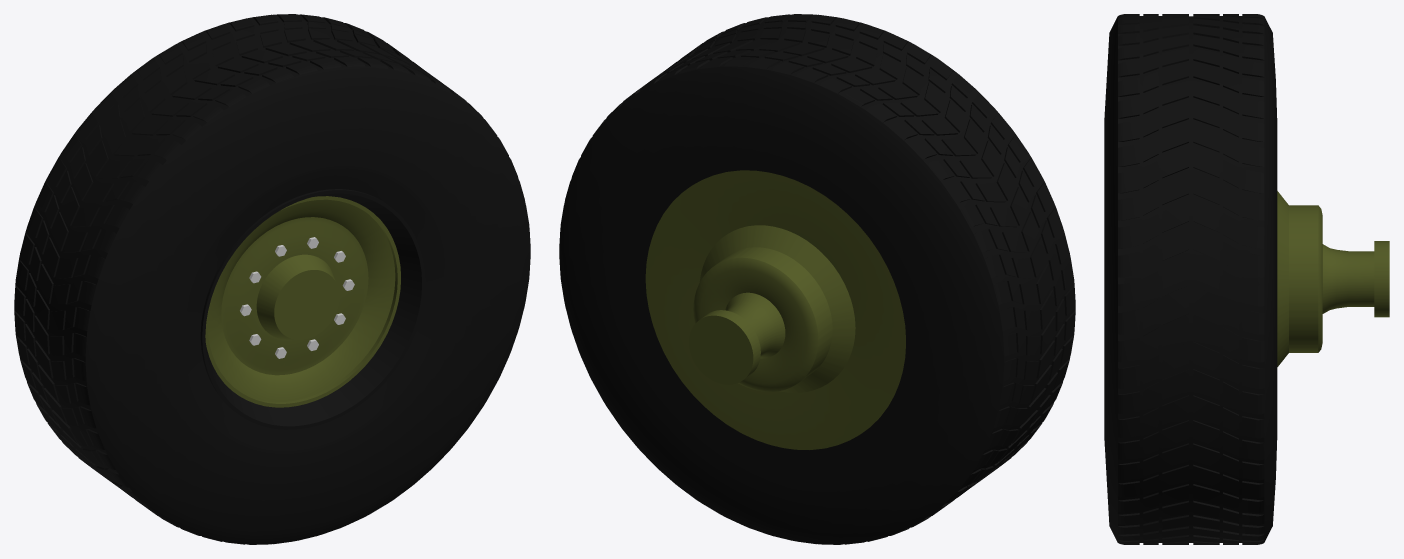
File: Oshkosh_right_Wheel.dae
3 views of the same model, side by side, from view 1: azimuth 30°, elevation 25°; view 2: azimuth 150°, elevation 25°; view 3: azimuth 270°, elevation 25° (orthographic). The views are drawn at different scales.
Visible parts, largest first — view 1: Wheels_Right_1; view 2: Wheels_Right_1; view 3: Wheels_Right_1.
Part boxes in pixels (<box>): Wheels_Right_1: <box>14,14,530,544</box>; Wheels_Right_1: <box>559,14,1075,544</box>; Wheels_Right_1: <box>1104,14,1389,544</box>.
Size of the model in its own units: 1.43 by 0.7664 by 1.43.
